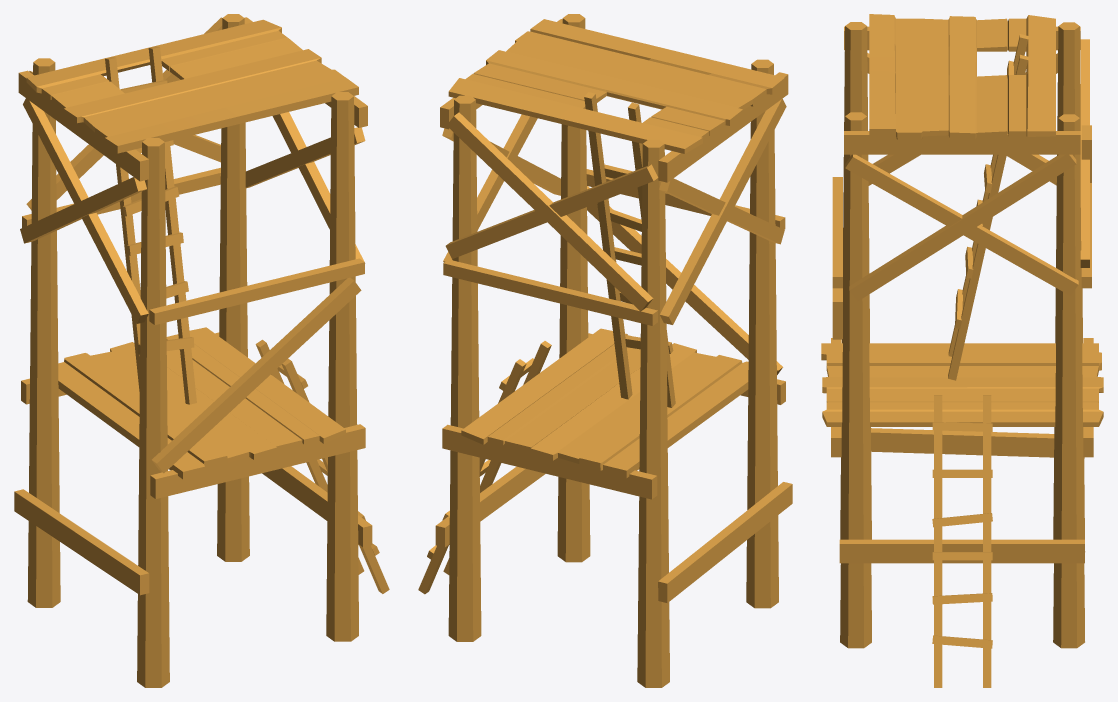
Rendered from WoodTower.fbx.
The picture shows the model from 3 angles, left to right: view 1: azimuth 30°, elevation 25°; view 2: azimuth 150°, elevation 25°; view 3: azimuth 270°, elevation 25°; orthographic projection. The views are drawn at different scales.
Parts seen in each view (by area): view 1: tower-pirate-wood; view 2: tower-pirate-wood; view 3: tower-pirate-wood.
Part boxes in pixels (x1=…): tower-pirate-wood: x1=14, y1=14, x2=389, y2=687; tower-pirate-wood: x1=418, y1=14, x2=792, y2=687; tower-pirate-wood: x1=821, y1=14, x2=1103, y2=687.
Size of the model in its own units: 419 by 733 by 344.
